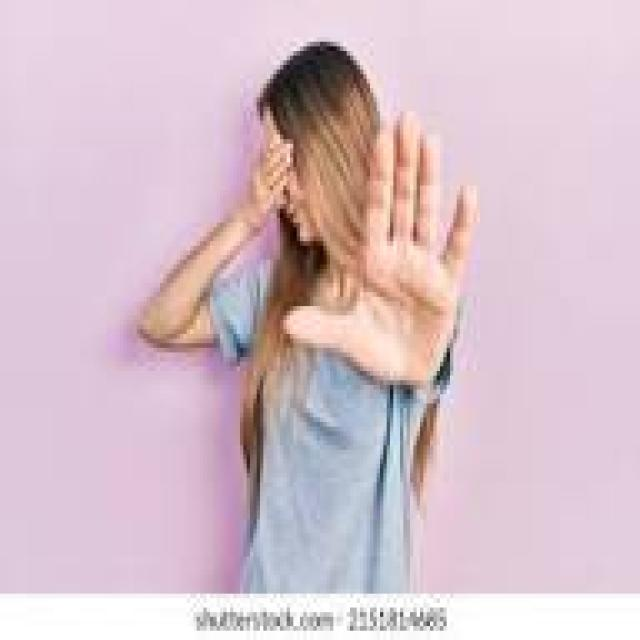7_mano_rostro: (194, 129, 306, 289)
